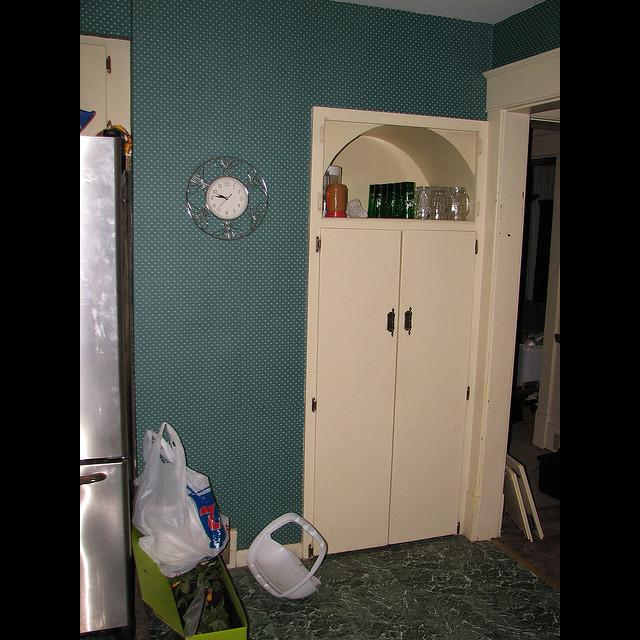Refrigerator: (81, 138, 127, 631)
